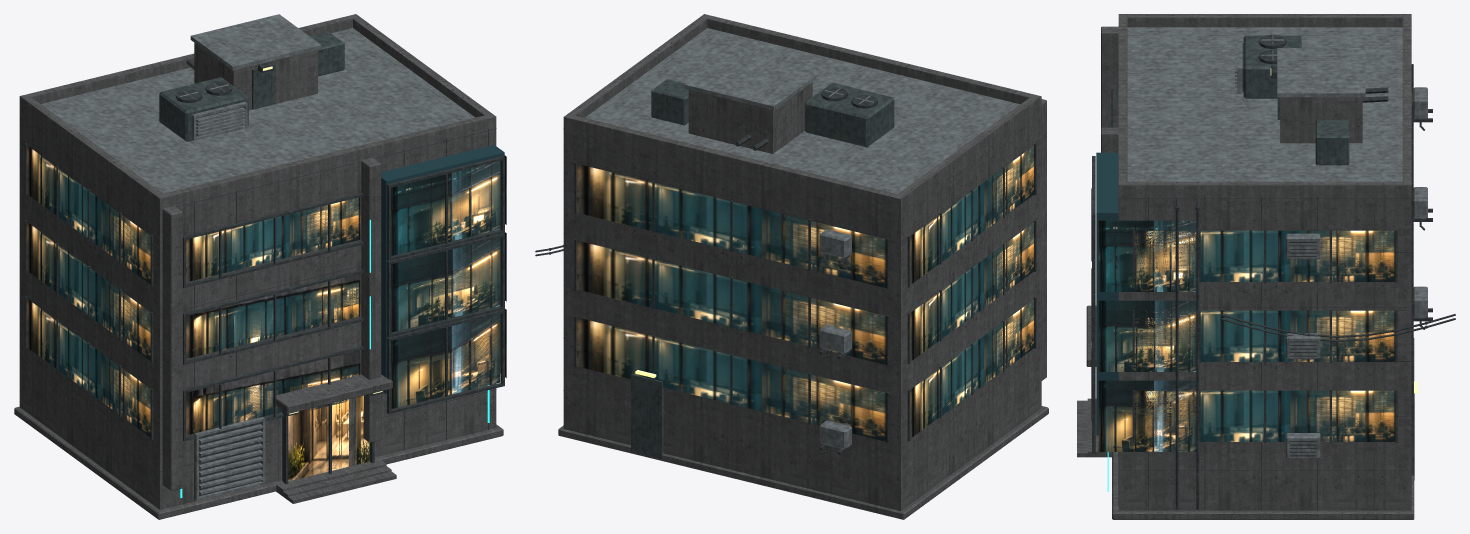
Rendered from urban-office.glb.
3 views of the same model, side by side, from view 1: azimuth 30°, elevation 25°; view 2: azimuth 150°, elevation 25°; view 3: azimuth 270°, elevation 25° (orthographic). The views are drawn at different scales.
Parts seen in each view (by area): view 1: CBOF1_UrbanOffice_Concrete, CBOF1_UrbanOffice_ApprovedMedia, CBOF1_UrbanOffice_RoofMetal, CBOF1_UrbanOffice_BlackFrame, CBOF1_UrbanOffice_ServiceMetal, CBOF1_UrbanOffice_SmokedGlass; view 2: CBOF1_UrbanOffice_Concrete, CBOF1_UrbanOffice_ApprovedMedia, CBOF1_UrbanOffice_RoofMetal, CBOF1_UrbanOffice_ServiceMetal, CBOF1_UrbanOffice_BlackFrame; view 3: CBOF1_UrbanOffice_Concrete, CBOF1_UrbanOffice_ApprovedMedia, CBOF1_UrbanOffice_RoofMetal, CBOF1_UrbanOffice_BlackFrame, CBOF1_UrbanOffice_ServiceMetal, CBOF1_UrbanOffice_SmokedGlass.
Boxes of the visible parts, x1,y1,x2,y2 form: CBOF1_UrbanOffice_Concrete: [14, 14, 503, 519]; CBOF1_UrbanOffice_ApprovedMedia: [26, 145, 506, 481]; CBOF1_UrbanOffice_RoofMetal: [41, 14, 474, 500]; CBOF1_UrbanOffice_BlackFrame: [24, 60, 504, 501]; CBOF1_UrbanOffice_ServiceMetal: [159, 31, 344, 141]; CBOF1_UrbanOffice_SmokedGlass: [381, 145, 504, 393]; CBOF1_UrbanOffice_Concrete: [558, 14, 1048, 519]; CBOF1_UrbanOffice_ApprovedMedia: [576, 145, 1034, 441]; CBOF1_UrbanOffice_RoofMetal: [585, 28, 1019, 449]; CBOF1_UrbanOffice_ServiceMetal: [631, 79, 894, 458]; CBOF1_UrbanOffice_BlackFrame: [535, 35, 1036, 454]; CBOF1_UrbanOffice_Concrete: [1077, 14, 1414, 519]; CBOF1_UrbanOffice_ApprovedMedia: [1098, 220, 1395, 451]; CBOF1_UrbanOffice_RoofMetal: [1127, 27, 1427, 458]; CBOF1_UrbanOffice_BlackFrame: [1091, 26, 1455, 510]; CBOF1_UrbanOffice_ServiceMetal: [1243, 35, 1414, 480]; CBOF1_UrbanOffice_SmokedGlass: [1096, 152, 1118, 435].
Size of the model in its own units: 11.28 by 11 by 10.08.
Materials: 8 (5 with a texture image).
